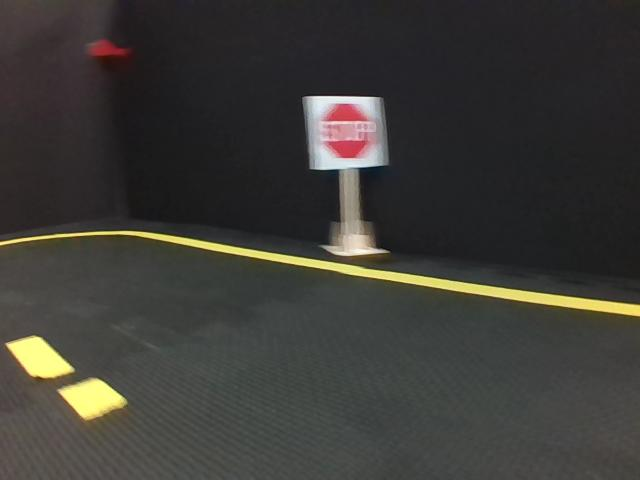stop: (306, 96, 385, 165)
